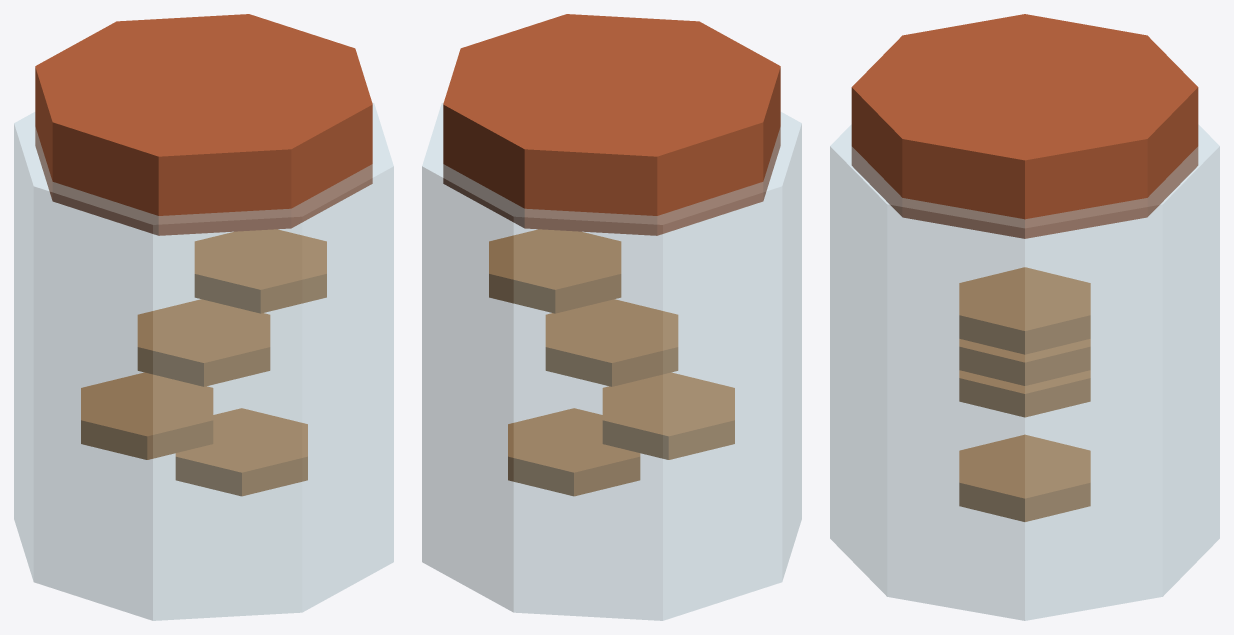
File: FD_CookieJar_01.glb
3 views of the same model, side by side, from view 1: azimuth 30°, elevation 25°; view 2: azimuth 150°, elevation 25°; view 3: azimuth 270°, elevation 25° (orthographic).
Parts seen in each view (by area): view 1: FD_CookieJar_01; view 2: FD_CookieJar_01; view 3: FD_CookieJar_01.
Part boxes in pixels (x1,y1,x2,y2): FD_CookieJar_01: (14,14,393,620); FD_CookieJar_01: (422,14,801,620); FD_CookieJar_01: (830,14,1219,620).
Bounding box in the file's own units: 0.18 × 0.23 × 0.18.
Materials: 2 (2 with a texture image).
